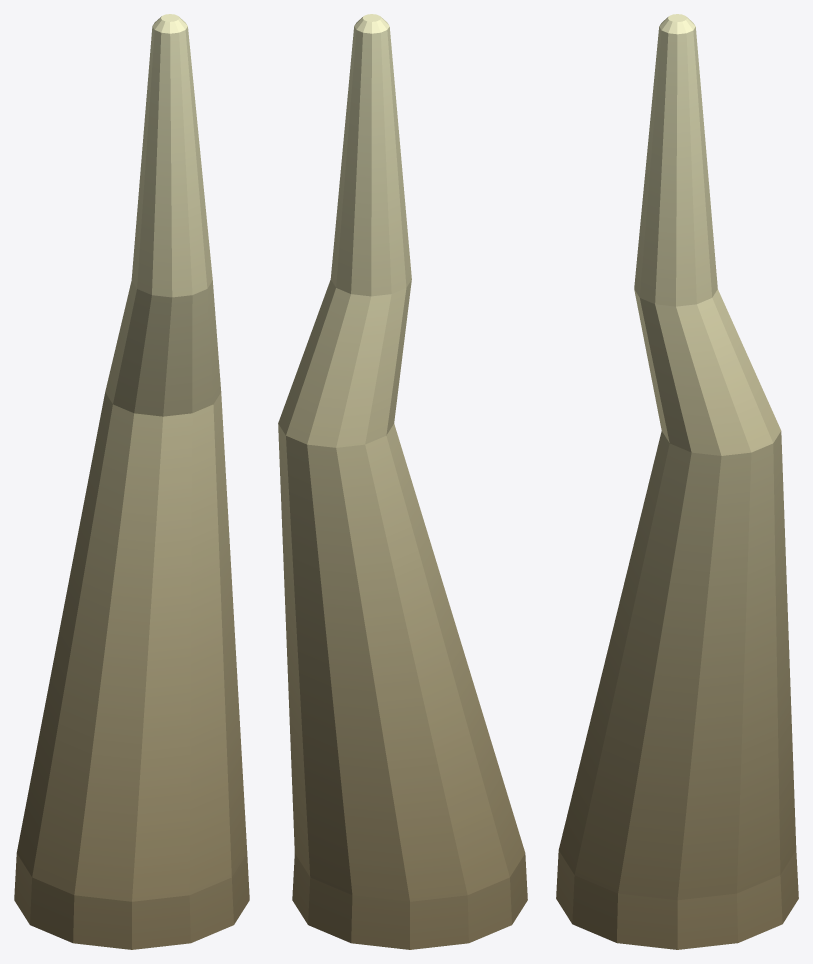
The model's file is OldPillar_01.fbx.
3 renders of one model, left to right at view 1: azimuth 30°, elevation 25°; view 2: azimuth 150°, elevation 25°; view 3: azimuth 270°, elevation 25°, orthographic. The views are drawn at different scales.
Parts seen in each view (by area): view 1: OldPillar_01_Mesh; view 2: OldPillar_01_Mesh; view 3: OldPillar_01_Mesh.
Part boxes in pixels (bbox=[...]): OldPillar_01_Mesh: bbox=[14, 14, 249, 949]; OldPillar_01_Mesh: bbox=[278, 14, 527, 949]; OldPillar_01_Mesh: bbox=[556, 14, 798, 949].
Bounding box in the file's own units: 363 × 1479 × 362.
